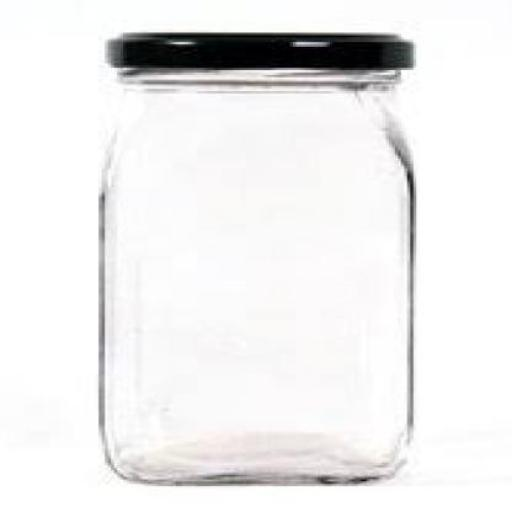glass: (96, 63, 416, 482)
metal: (102, 30, 410, 68)
